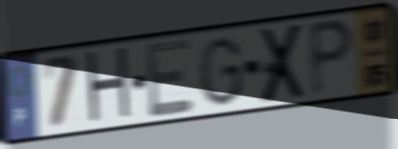7: (40, 51, 83, 133)
E: (143, 35, 195, 122)
G: (196, 35, 245, 109)
H: (83, 44, 134, 130)
P: (307, 16, 357, 101)
X: (259, 20, 308, 107)
